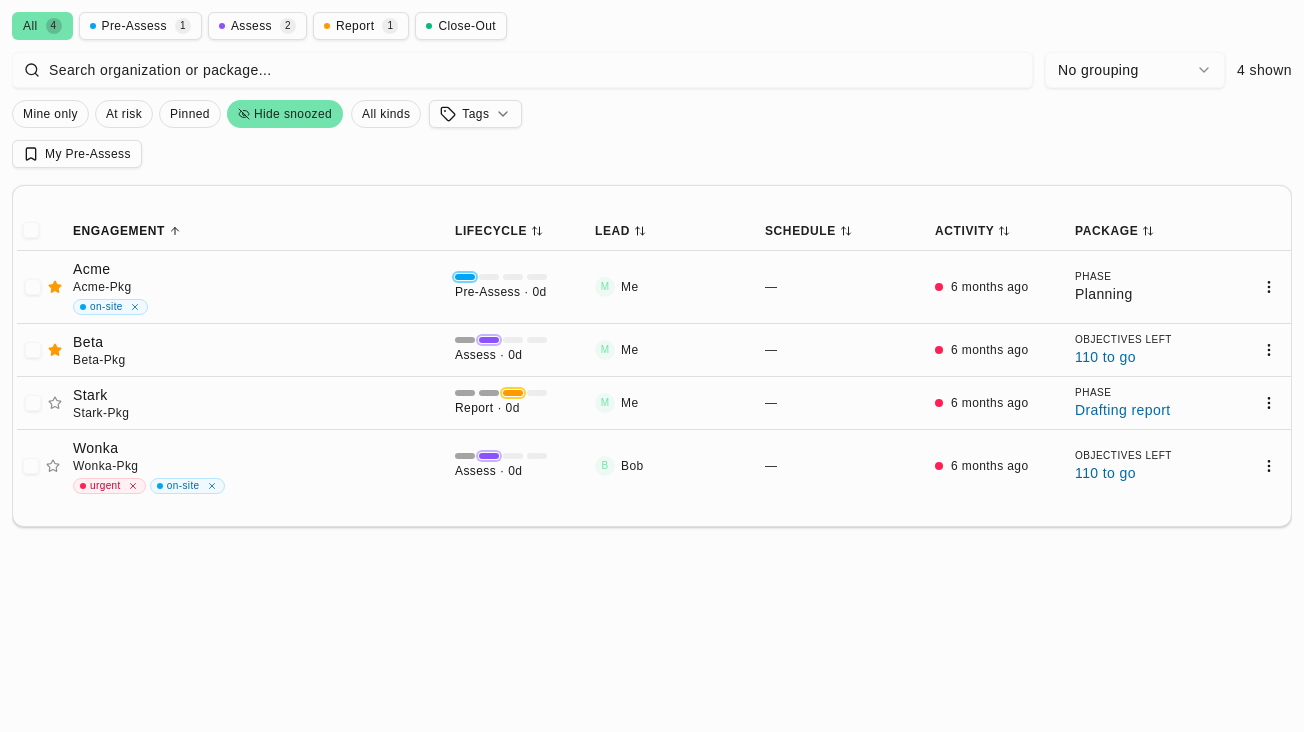
Test case: <EngagementsList> integration › pinned chip toggle hides non-pinned rows
The image size is (1304, 732).
Click the button "Pinned": (190, 114) [159,100,221,128]
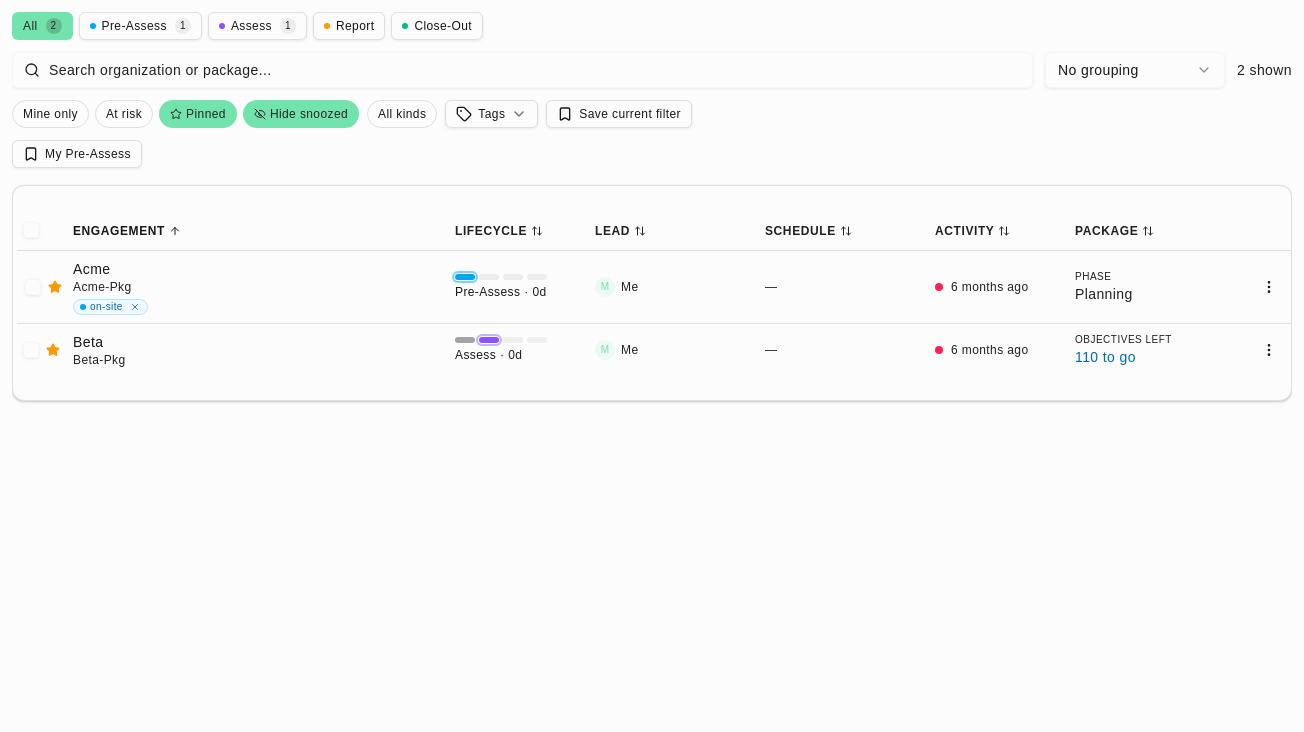
Expected: the text "Acme" is shown, [73,258,110,278]
Expected: the link "Wonka" is gone
Expected: the link "Stark" is gone
